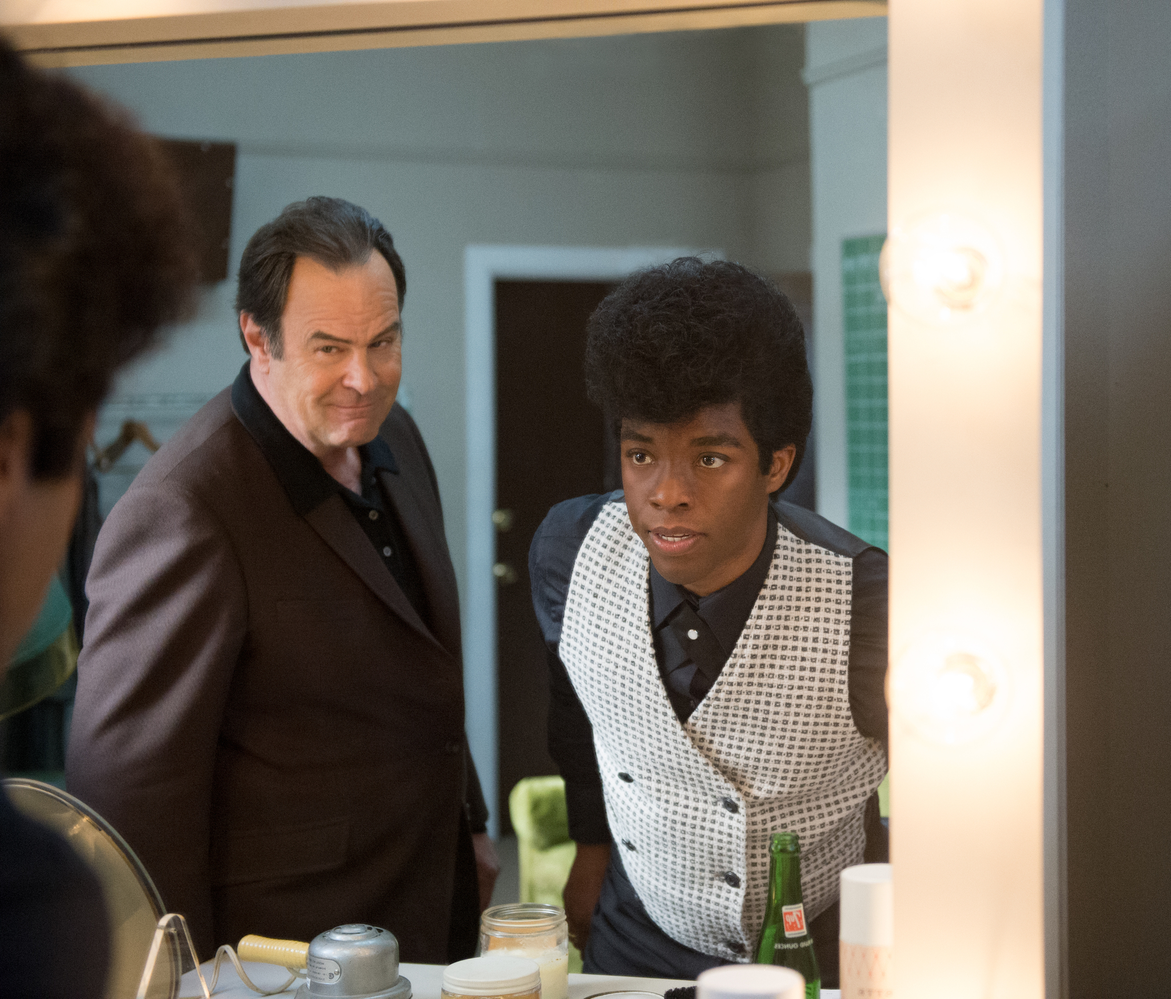20: (594, 355, 786, 611)
52: (255, 234, 423, 479)
Coat: (67, 368, 493, 973)
Male: (594, 355, 786, 611), (255, 234, 423, 479)
Shirt: (222, 354, 432, 622), (648, 495, 789, 737)
Waistcoat: (555, 484, 890, 966)
